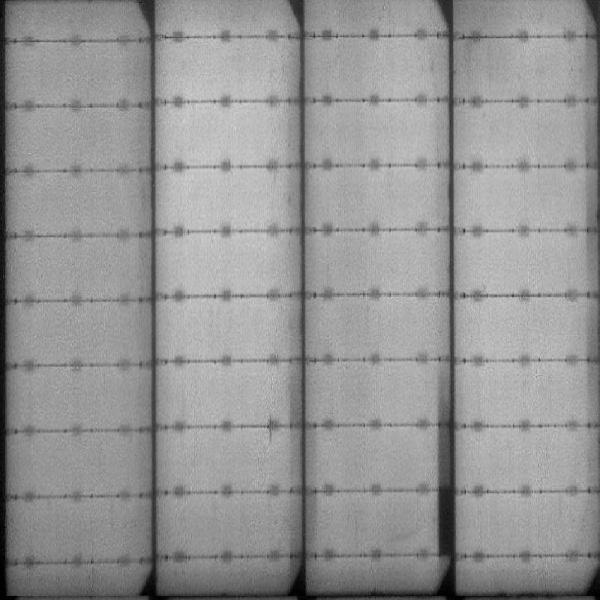black_border: (432, 418, 455, 559)
